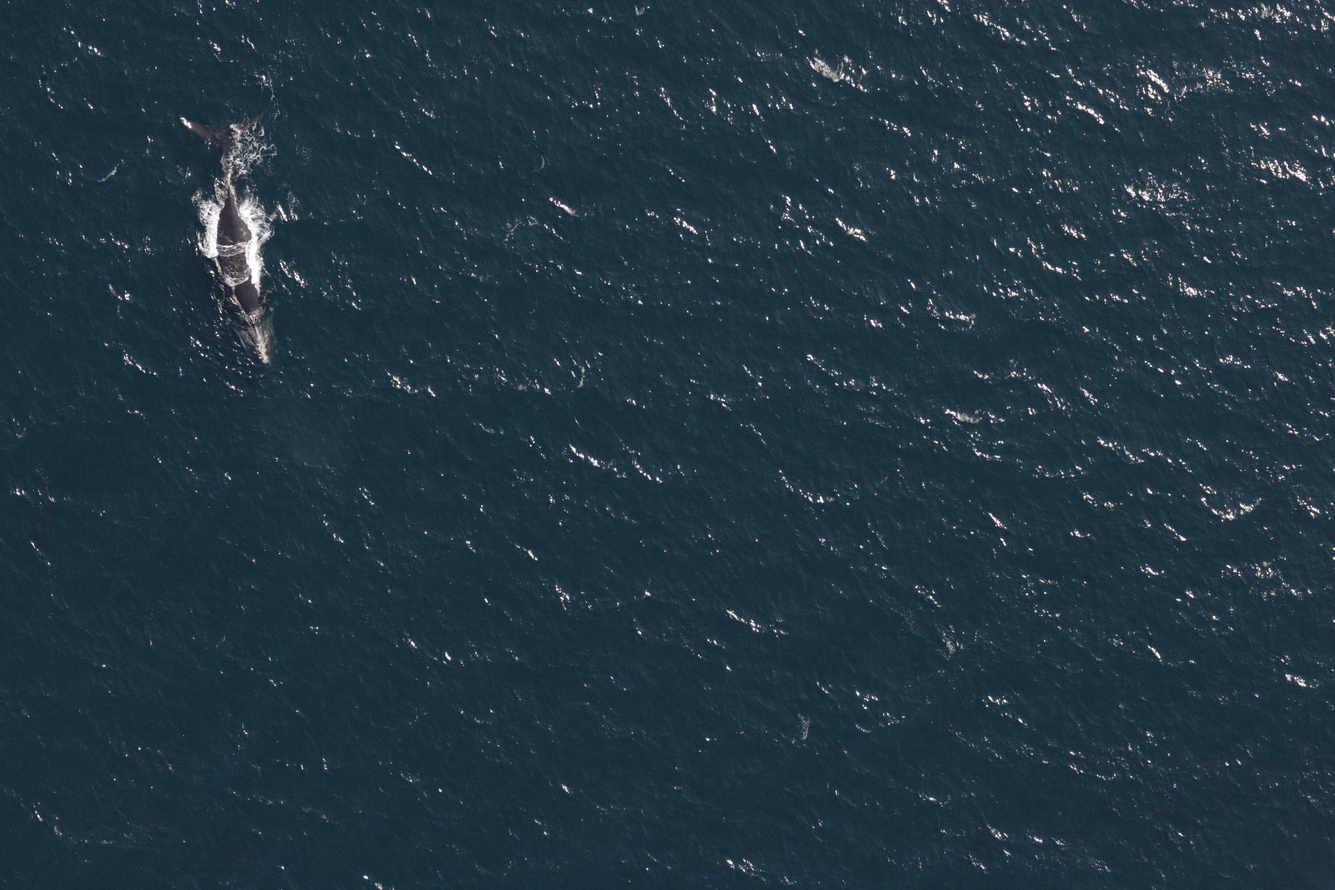whale: (167, 102, 291, 377)
